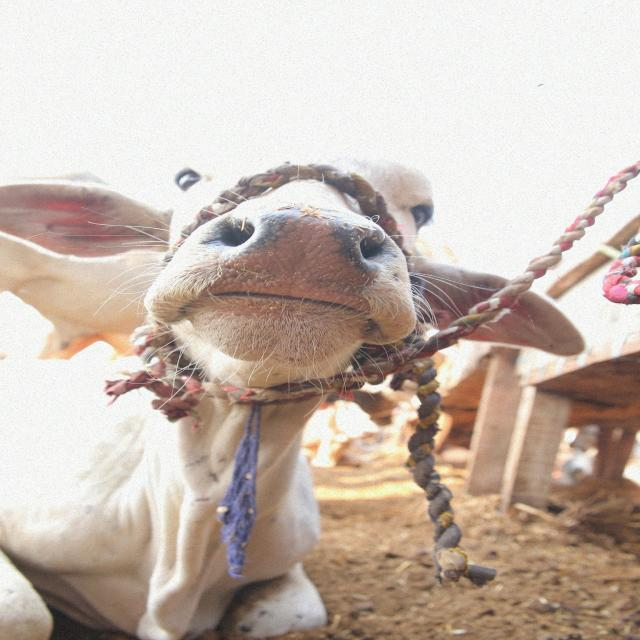muzzles: (194, 200, 389, 312)
